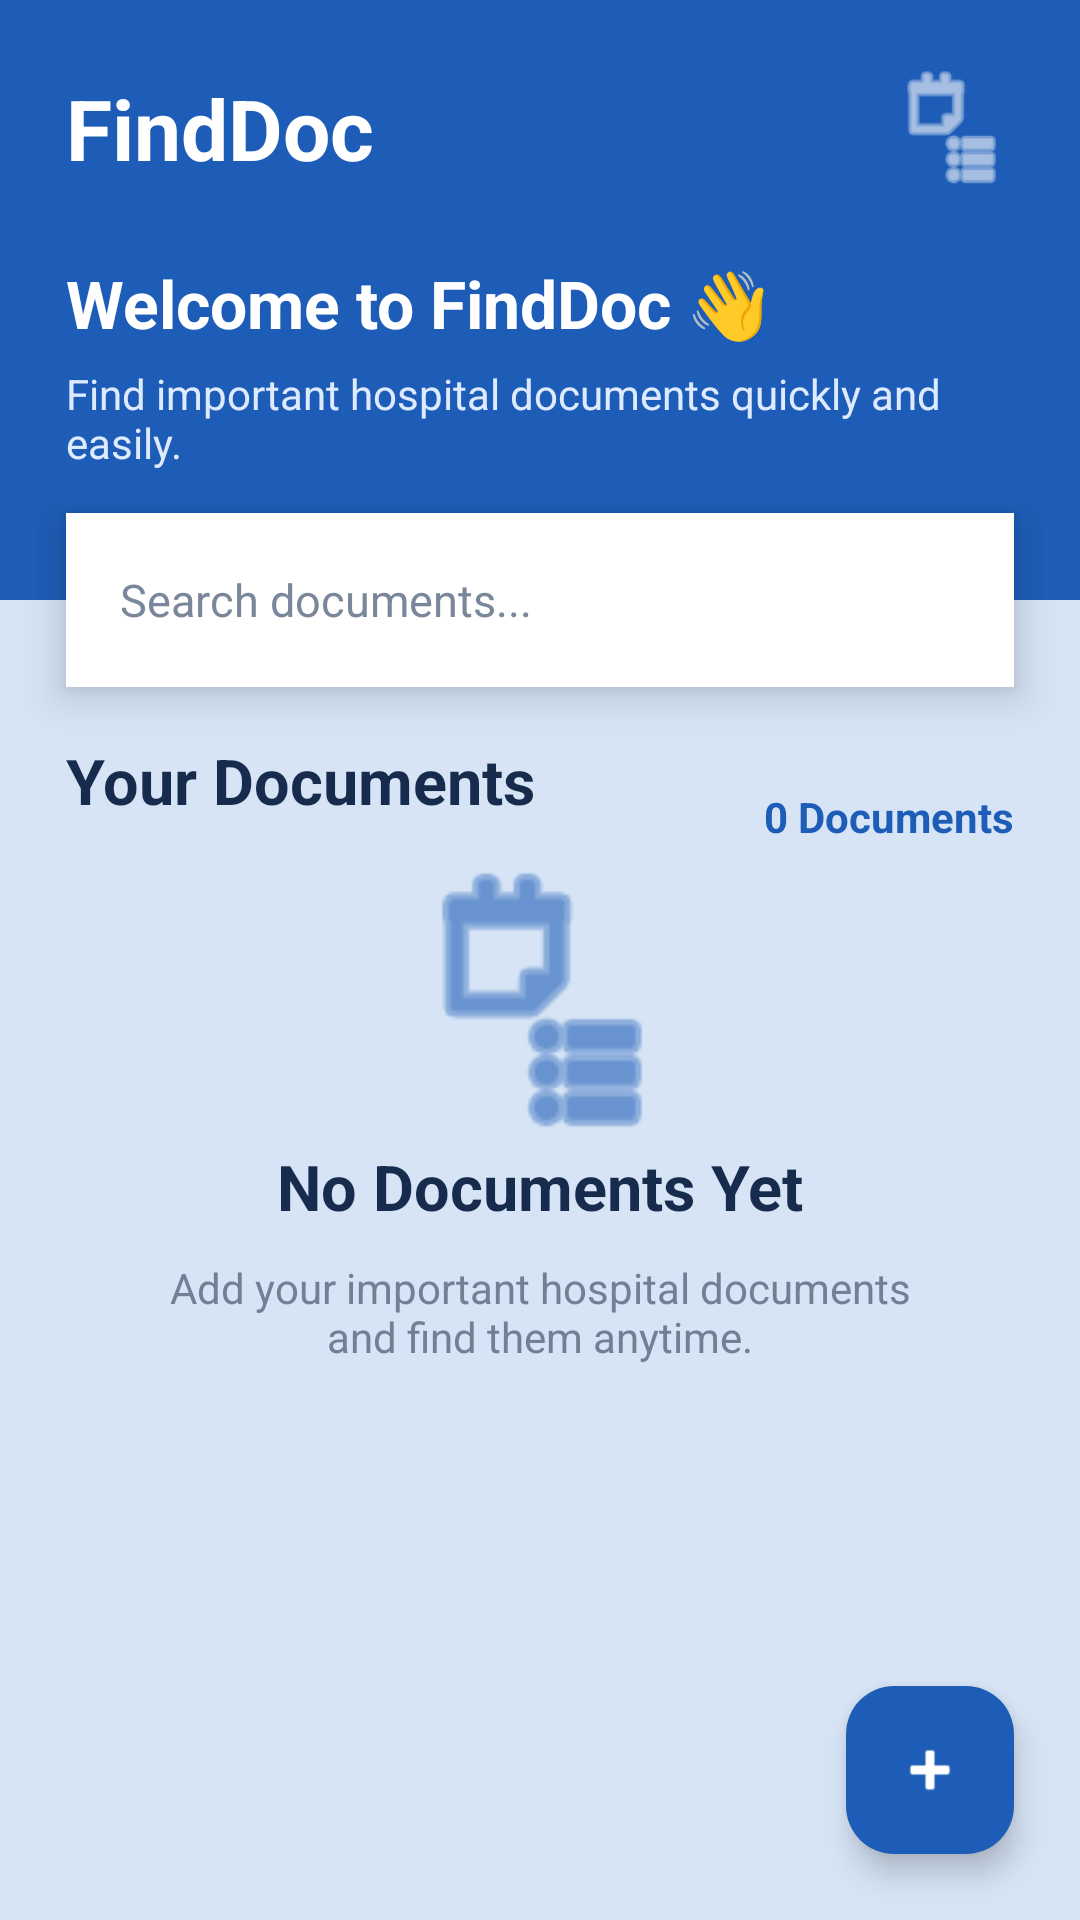

Screen size 1080px x 1920px. Icon name, then its center in pixels as [x,y]:
Add Document: [930,1770]
Document: [951,127]
